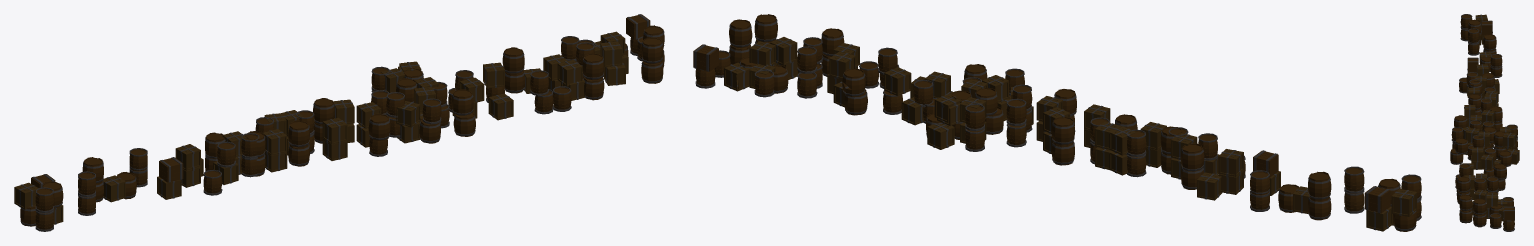
File: DogLevelMiddleBarrels.glb
The picture shows the model from 3 angles, left to right: view 1: azimuth 30°, elevation 25°; view 2: azimuth 150°, elevation 25°; view 3: azimuth 270°, elevation 25°; orthographic projection. The views are drawn at different scales.
Visible parts, largest first — view 1: Wooden Crate 3.001; view 2: Wooden Crate 3.001; view 3: Wooden Crate 3.001.
Boxes of the visible parts, x1,y1,x2,y2 form: Wooden Crate 3.001: (14,14,664,231); Wooden Crate 3.001: (693,14,1421,231); Wooden Crate 3.001: (1450,14,1519,231).
Size of the model in its own units: 20.71 by 1.33 by 3.12.
